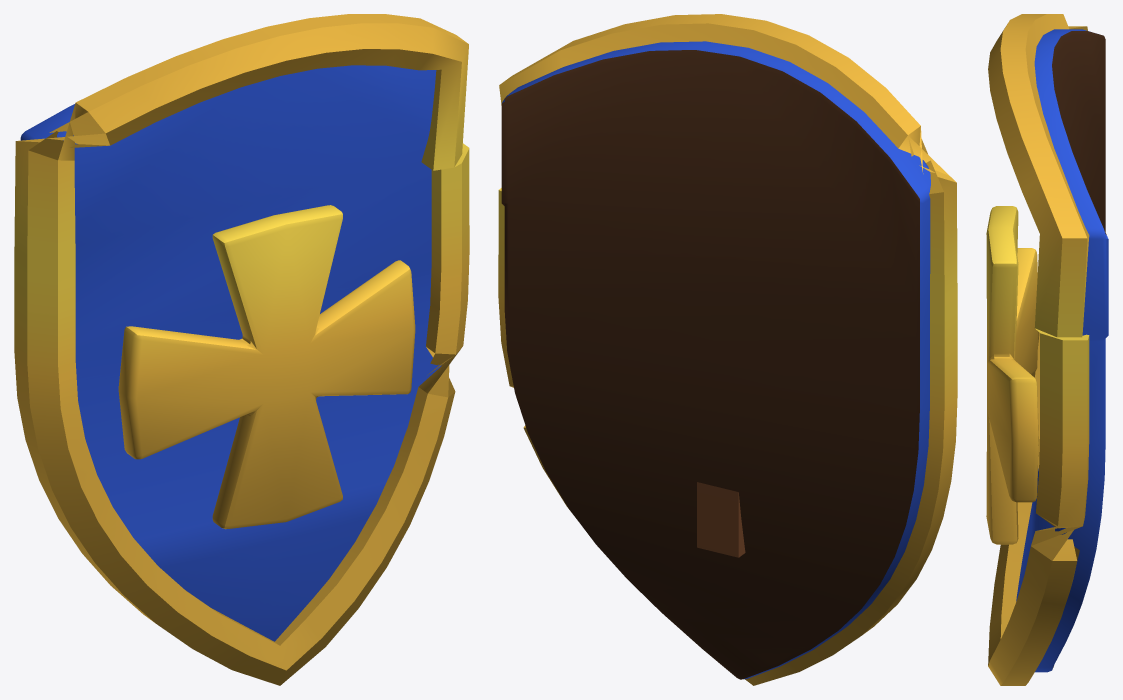
The model's file is Weapon_KnightShield.fbx.
3 views of the same model, side by side, from view 1: azimuth 30°, elevation 25°; view 2: azimuth 150°, elevation 25°; view 3: azimuth 270°, elevation 25° (orthographic). The views are drawn at different scales.
Parts seen in each view (by area): view 1: KnightShield; view 2: KnightShield; view 3: KnightShield.
Boxes of the visible parts, x1,y1,x2,y2 form: KnightShield: [14, 14, 469, 685]; KnightShield: [498, 14, 957, 685]; KnightShield: [986, 14, 1108, 685].
Size of the model in its own units: 0.3197 by 0.449 by 0.078.
